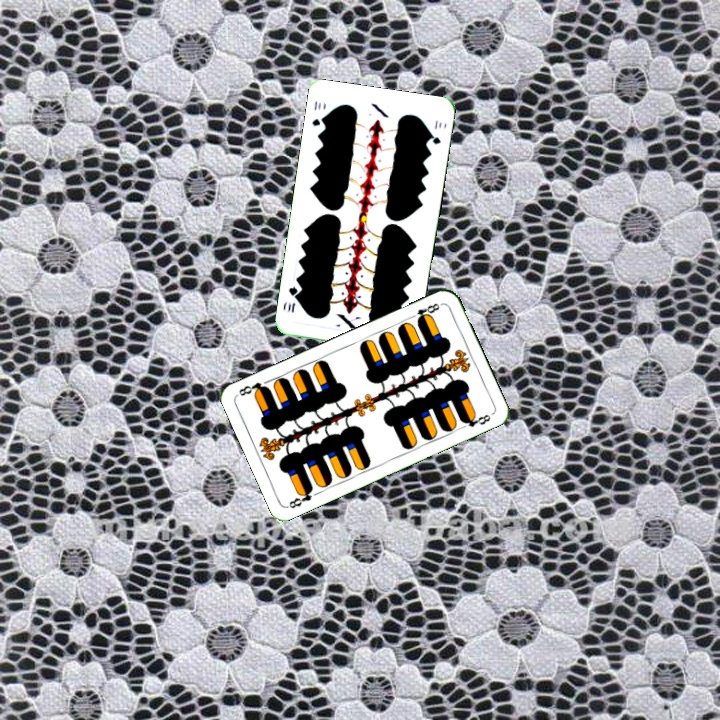E8: (406, 299, 442, 325), (284, 483, 316, 511)
G10: (308, 96, 328, 129)
